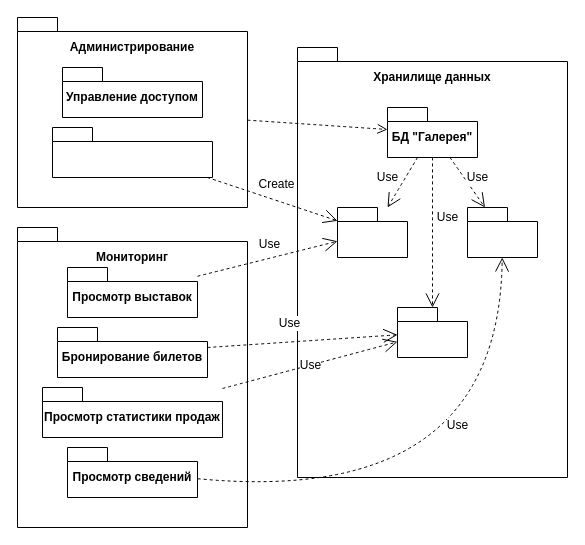
Image size: 585x545. Some labels were removed from this diagram. The shapes that lost their labels are listed below. From the top down, each one's centre as x and y in pixels, then its label:
(x=132, y=152): Управление выставками
(x=372, y=232): Выставки
(x=502, y=232): Картины
(x=432, y=332): Билеты
